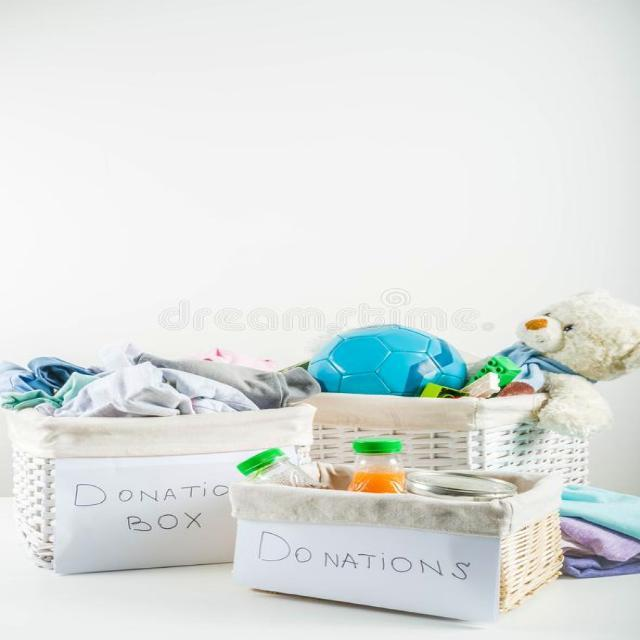clothes: (34, 353, 252, 417), (589, 486, 638, 592)
